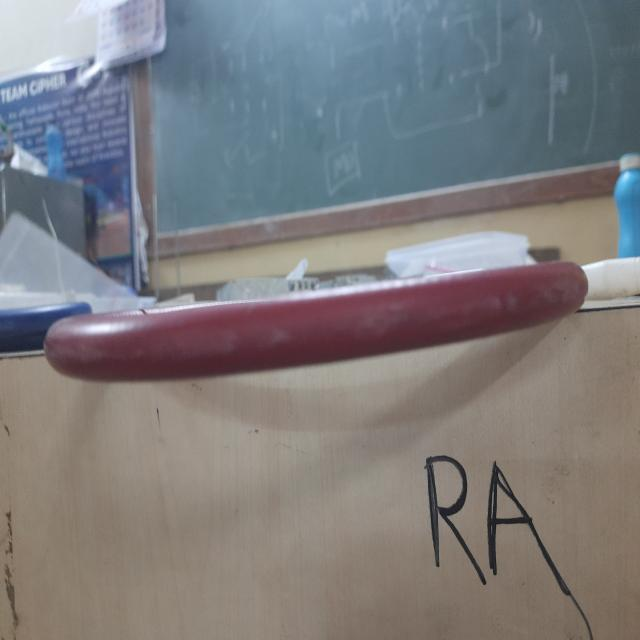daire: (50, 271, 558, 378)
